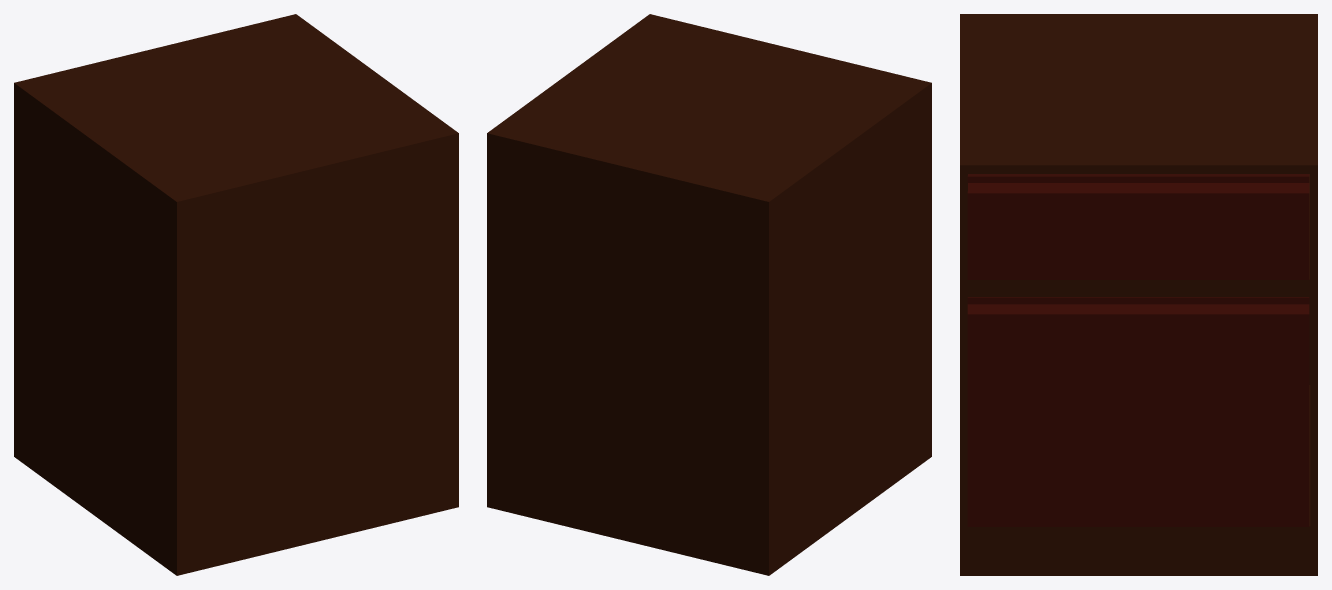
File: storage.fbx
3 views of the same model, side by side, from view 1: azimuth 30°, elevation 25°; view 2: azimuth 150°, elevation 25°; view 3: azimuth 270°, elevation 25° (orthographic). The views are drawn at different scales.
Parts seen in each view (by area): view 1: cover; view 2: cover; view 3: cover, open2, open1.
Boxes of the visible parts, box(x1,y1,x2,y2) form: cover: box(14, 14, 458, 575); cover: box(487, 14, 931, 575); cover: box(960, 14, 1317, 575); open2: box(967, 297, 1309, 526); open1: box(967, 174, 1309, 279).
Bounding box in the file's own units: 60.32 × 76 × 60.
